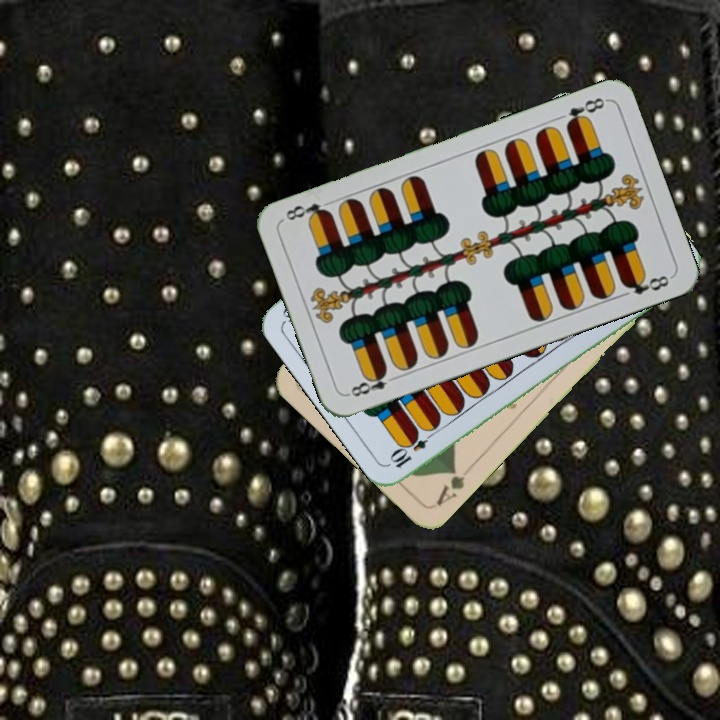E10: (386, 425, 439, 471)
E8: (344, 366, 401, 400), (562, 93, 609, 131)
GA: (431, 463, 468, 509)
